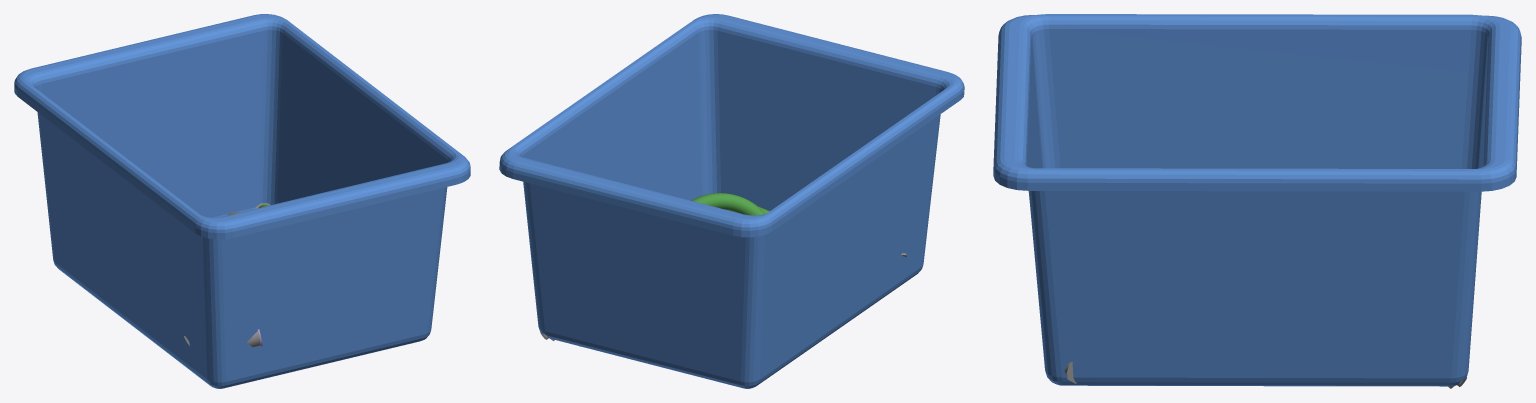
3 views of the same model, side by side, from view 1: azimuth 30°, elevation 25°; view 2: azimuth 150°, elevation 25°; view 3: azimuth 270°, elevation 25° (orthographic). The views are drawn at different scales.
Visible parts, largest first — view 1: bin; view 2: bin, tube_1_Y; view 3: bin.
Boxes of the visible parts, x1,y1,x2,y2 form: bin: [14, 14, 470, 388]; bin: [499, 14, 964, 388]; tube_1_Y: [540, 193, 906, 340]; bin: [993, 14, 1521, 386].
Size of the model in its own units: 0.2978 by 0.1974 by 0.4001.
